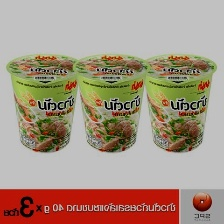paper_cup: (136, 47, 221, 156), (69, 47, 153, 156), (3, 48, 82, 156)
